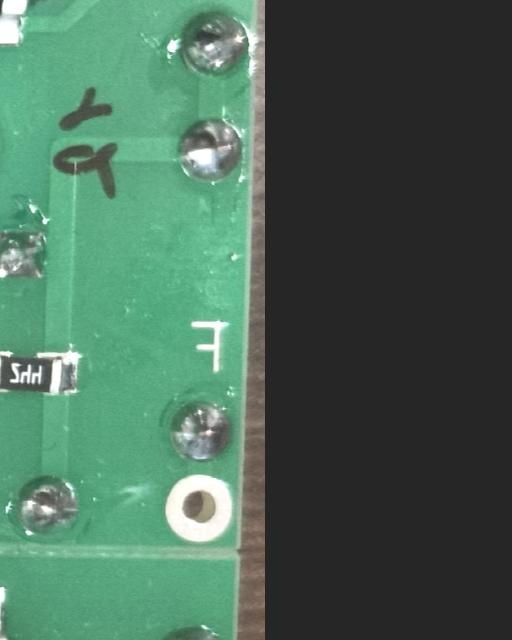chip-resistor: (0, 347, 81, 397)
